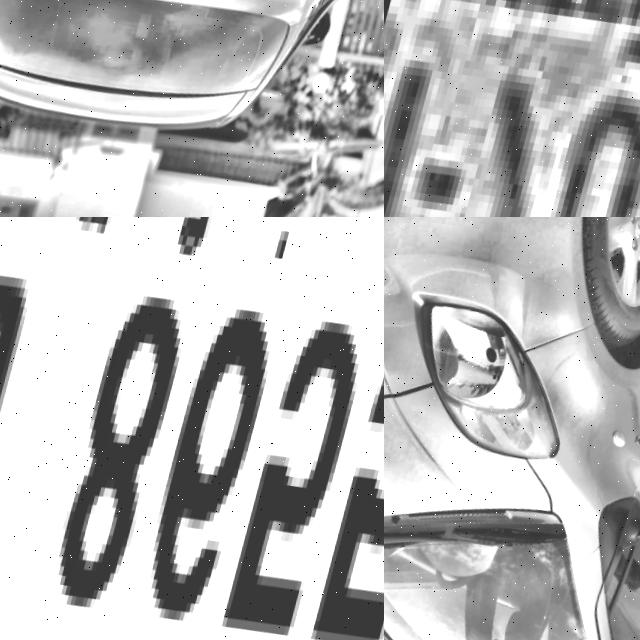license-plate: (0, 217, 384, 640), (384, 0, 640, 217)
